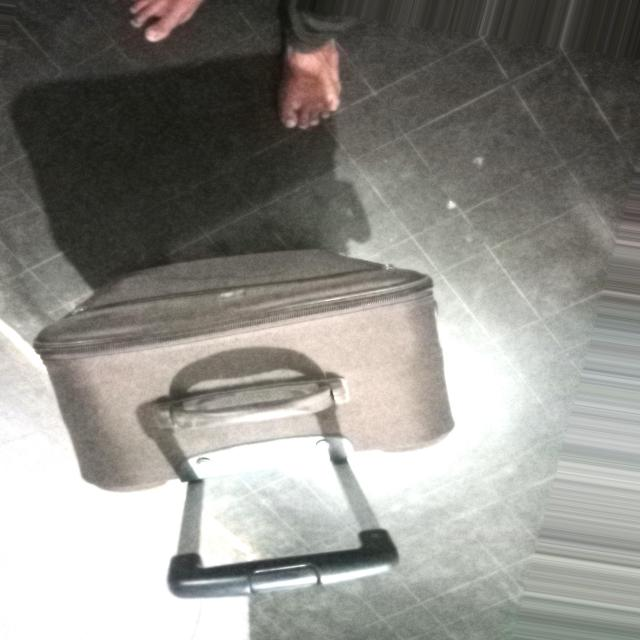Bag: (10, 246, 479, 635)
Handle: (157, 447, 409, 612)
